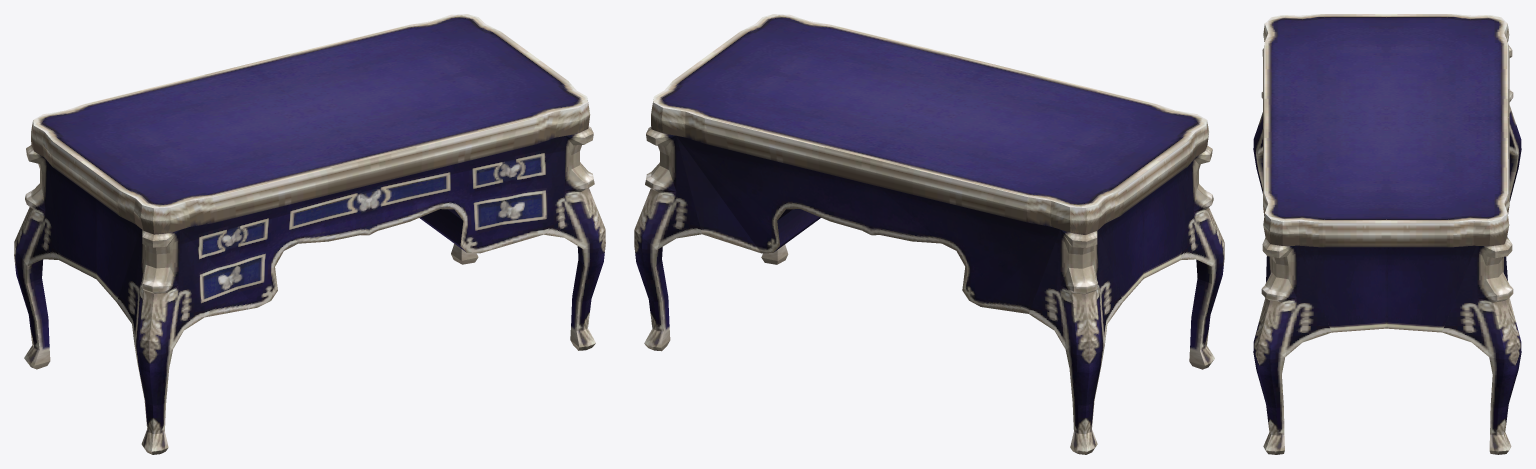
The model's file is furni_0201107.FBX.
3 views of the same model, side by side, from view 1: azimuth 30°, elevation 25°; view 2: azimuth 150°, elevation 25°; view 3: azimuth 270°, elevation 25° (orthographic). The views are drawn at different scales.
Parts seen in each view (by area): view 1: furni_0201107; view 2: furni_0201107; view 3: furni_0201107.
Boxes of the visible parts, x1,y1,x2,y2 form: furni_0201107: (14, 14, 605, 454); furni_0201107: (634, 14, 1224, 454); furni_0201107: (1253, 14, 1521, 454).
Size of the model in its own units: 162 by 81.45 by 84.69.
1 material, 1 textured.
